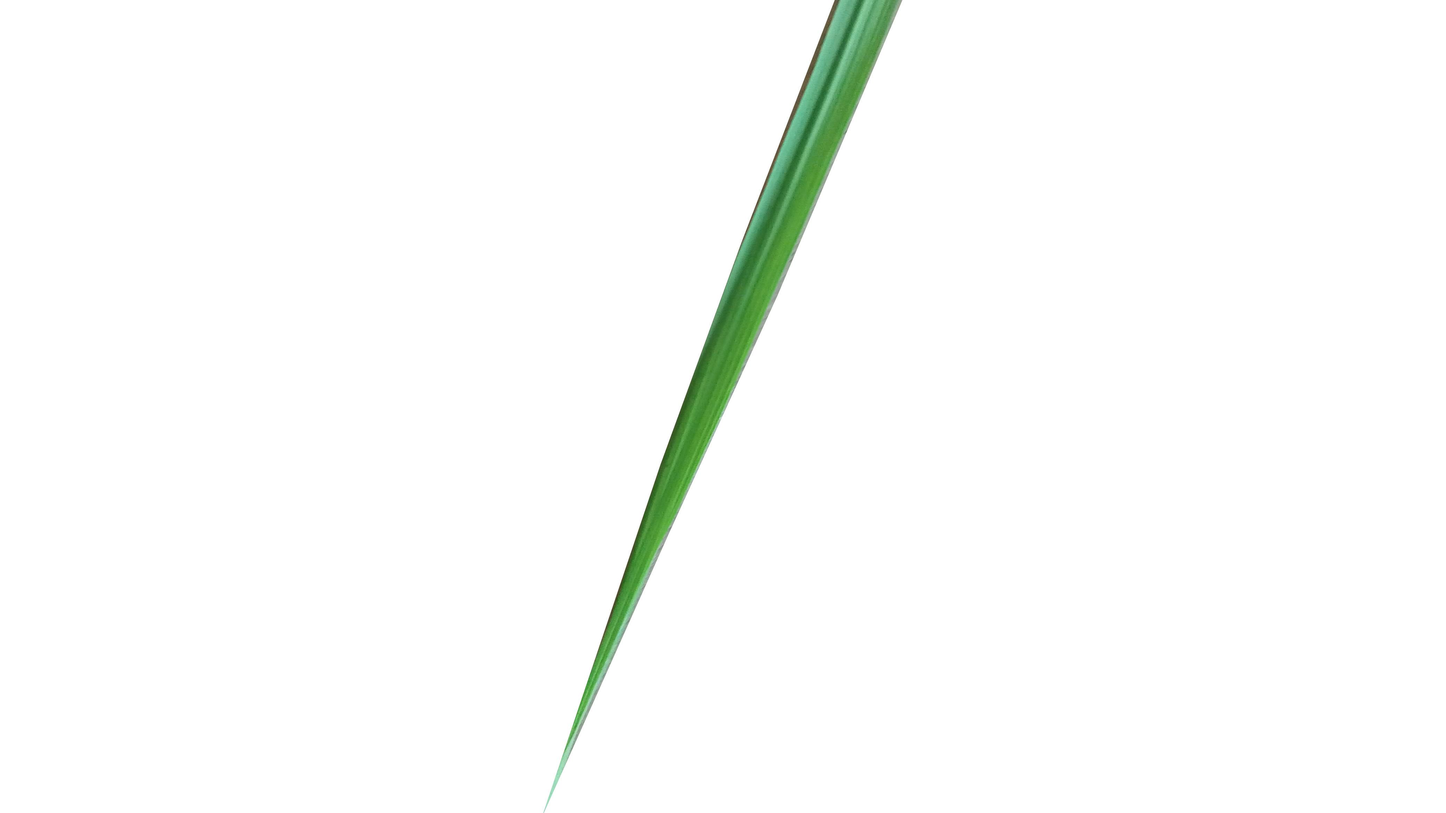Healthy: (551, 0, 907, 804)
